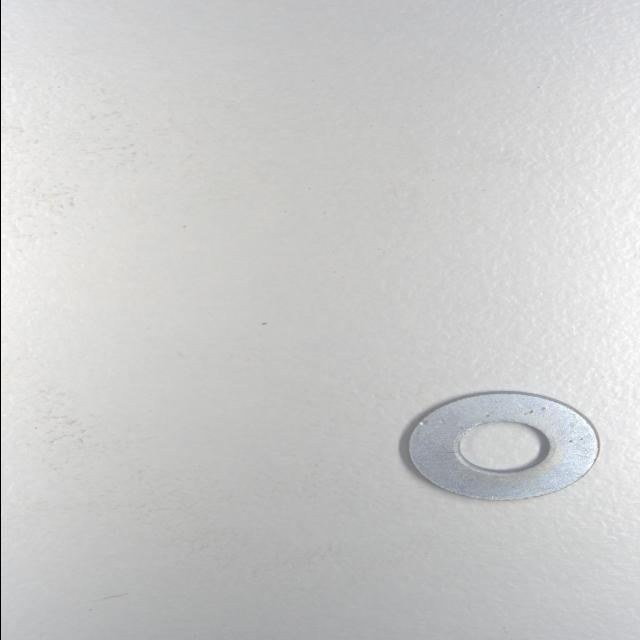washer: (406, 390, 602, 502)
